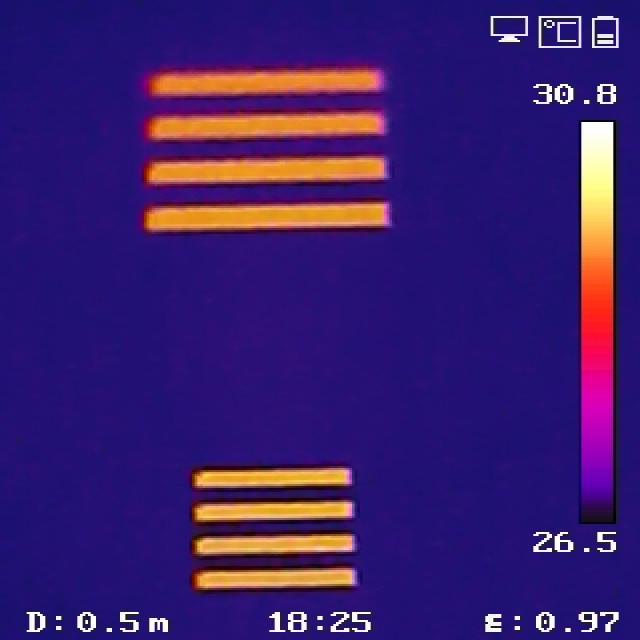Distinguishable 4-bar target: (128, 62, 395, 238), (181, 462, 367, 598)
